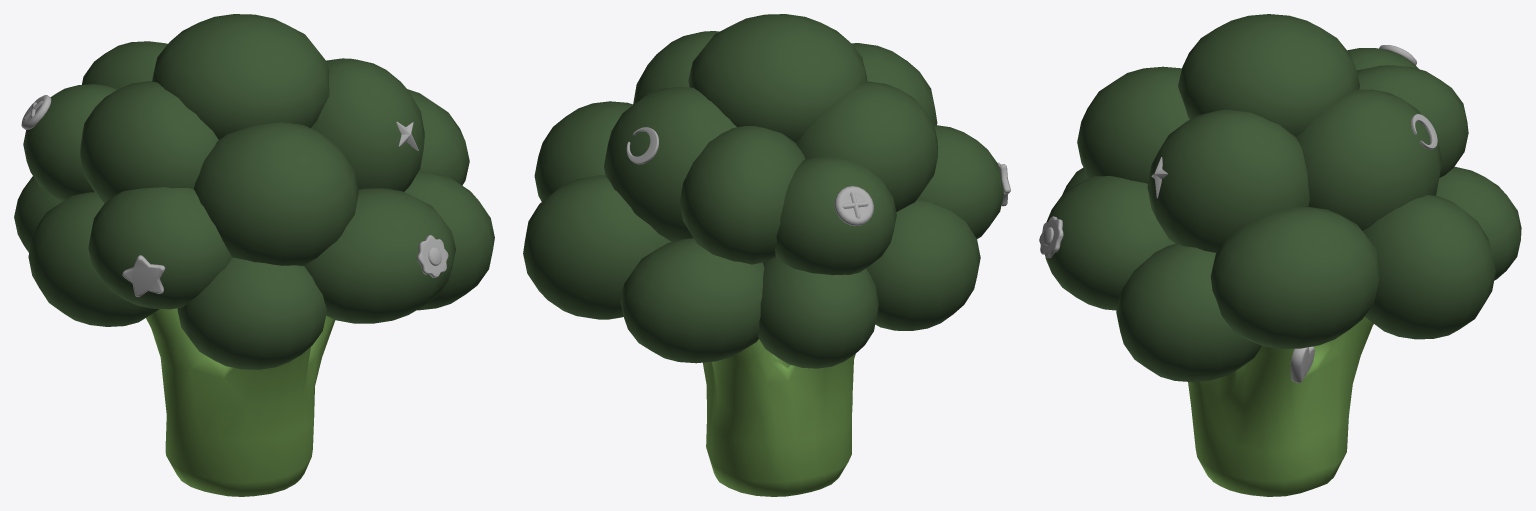
The model's file is Broccoli.fbx.
3 views of the same model, side by side, from view 1: azimuth 30°, elevation 25°; view 2: azimuth 150°, elevation 25°; view 3: azimuth 270°, elevation 25° (orthographic).
Parts seen in each view (by area): view 1: S_Broccoli, M_Broccoli3, M_Broccoli1, M_Broccoli2, M_Broccoli12, M_Broccoli4, M_Broccoli14, M_Broccoli7, M_Broccoli9, M_Broccoli15, M_Broccoli17, M_Broccoli11 (+5 smaller); view 2: S_Broccoli, M_Broccoli1, M_Broccoli10, M_Broccoli8, M_Broccoli5, M_Broccoli6, M_Broccoli9, M_Broccoli14, M_Broccoli15, M_Broccoli16, M_Broccoli4, M_Broccoli11 (+4 smaller); view 3: S_Broccoli, M_Broccoli11, M_Broccoli7, M_Broccoli1, M_Broccoli8, M_Broccoli6, M_Broccoli17, M_Broccoli2, M_Broccoli3, M_Broccoli5, M_Broccoli10, M_Broccoli15 (+2 smaller).
Boxes of the visible parts, x1,y1,x2,y2 form: S_Broccoli: [146, 308, 335, 496]; M_Broccoli3: [194, 122, 358, 266]; M_Broccoli1: [152, 14, 329, 139]; M_Broccoli2: [304, 188, 455, 323]; M_Broccoli12: [177, 257, 326, 369]; M_Broccoli4: [88, 187, 232, 309]; M_Broccoli14: [80, 81, 218, 202]; M_Broccoli7: [311, 58, 424, 191]; M_Broccoli9: [28, 192, 159, 326]; M_Broccoli15: [23, 84, 116, 201]; M_Broccoli17: [404, 170, 494, 310]; M_Broccoli11: [407, 89, 469, 185]; S_Broccoli: [703, 339, 855, 496]; M_Broccoli1: [688, 14, 867, 142]; M_Broccoli10: [620, 238, 764, 363]; M_Broccoli8: [523, 175, 671, 319]; M_Broccoli5: [680, 126, 805, 264]; M_Broccoli6: [604, 87, 736, 241]; M_Broccoli9: [866, 200, 980, 330]; M_Broccoli14: [795, 81, 937, 211]; M_Broccoli15: [774, 156, 896, 275]; M_Broccoli16: [757, 256, 878, 368]; M_Broccoli4: [916, 125, 1003, 238]; M_Broccoli11: [534, 101, 632, 201]; S_Broccoli: [1188, 316, 1373, 496]; M_Broccoli11: [1210, 207, 1379, 348]; M_Broccoli7: [1147, 109, 1309, 252]; M_Broccoli1: [1178, 14, 1359, 136]; M_Broccoli8: [1362, 195, 1495, 339]; M_Broccoli6: [1296, 89, 1441, 230]; M_Broccoli17: [1116, 244, 1261, 382]; M_Broccoli2: [1045, 176, 1175, 310]; M_Broccoli3: [1077, 66, 1189, 183]; M_Broccoli5: [1356, 65, 1468, 177]; M_Broccoli10: [1436, 166, 1521, 280]; M_Broccoli15: [1347, 48, 1418, 70].
Size of the model in its own units: 543 by 560 by 542.
